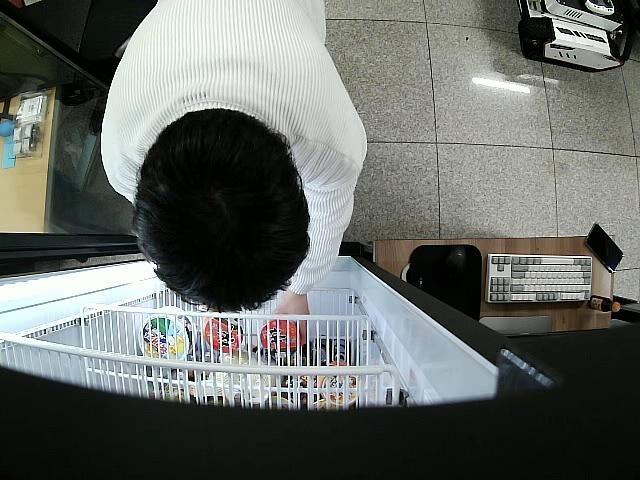02_shinRamen_S: (260, 316, 304, 360)
